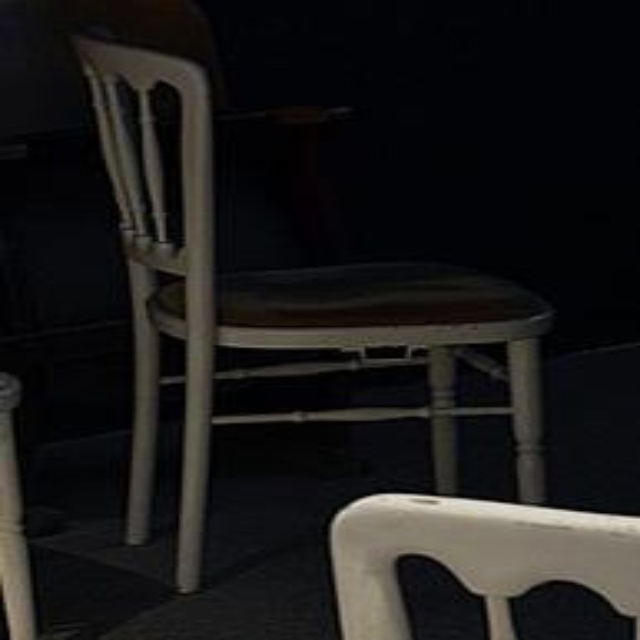obstacle: (73, 38, 550, 591)
